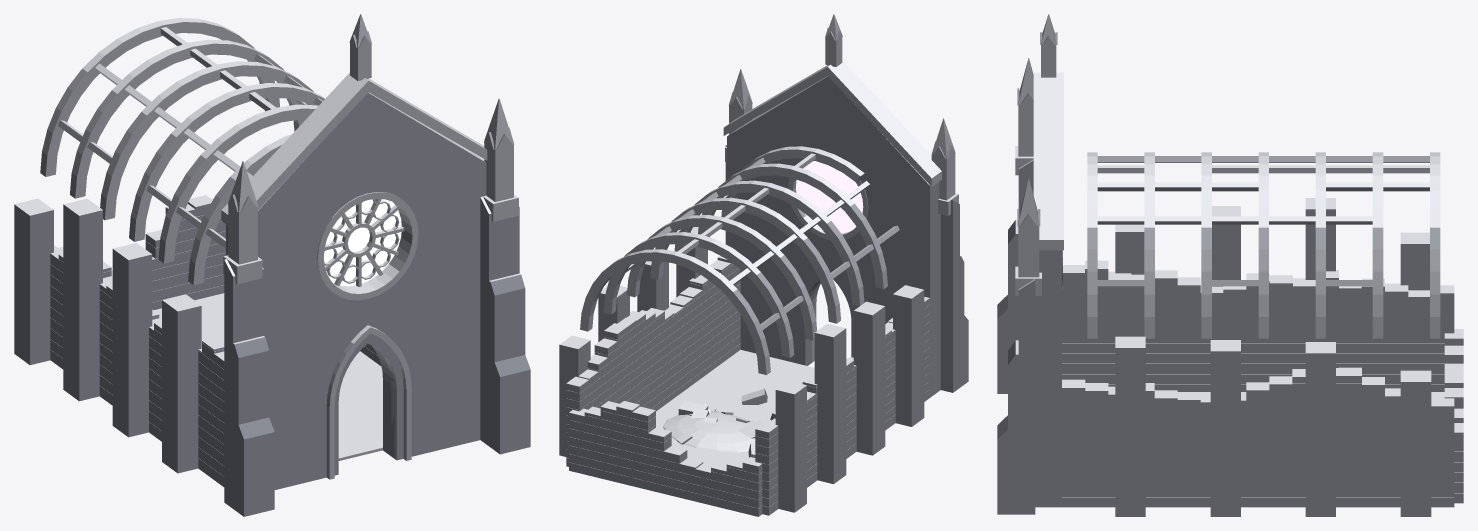
Rendered from AR_Salao.fbx.
3 renders of one model, left to right at view 1: azimuth 30°, elevation 25°; view 2: azimuth 150°, elevation 25°; view 3: azimuth 270°, elevation 25°, orthographic. The views are drawn at different scales.
Visible parts, largest first — view 1: AR_Salao; view 2: AR_Salao; view 3: AR_Salao.
Boxes of the visible parts, x1=… form: AR_Salao: x1=14, y1=14, x2=530, y2=516; AR_Salao: x1=559, y1=14, x2=968, y2=516; AR_Salao: x1=997, y1=14, x2=1463, y2=516.
Bounding box in the file's own units: 17.4 × 25.6 × 24.5.
